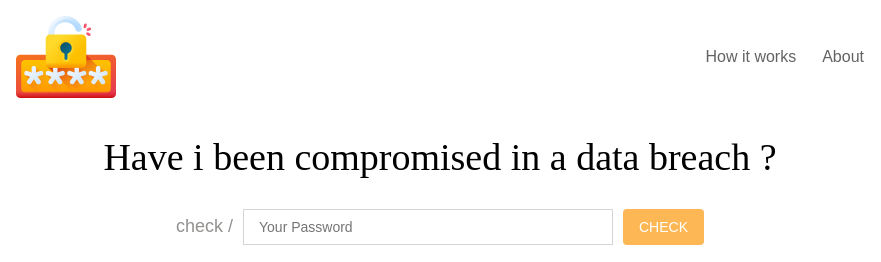
Scenario: Header › "How it works" link points to the correct page
This screenshot has width=881, height=262.
Click the link "How it works". click: (751, 57)
box: [706, 48, 796, 66]
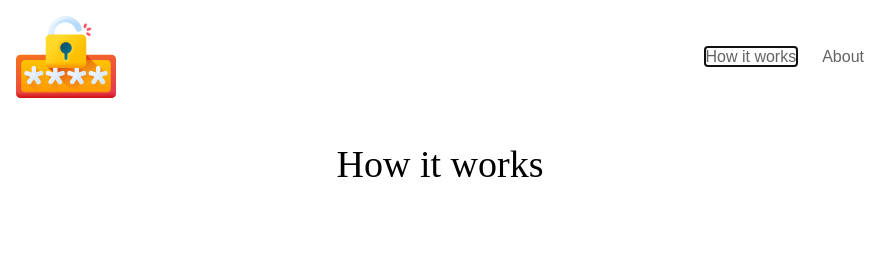
Result: the heading "How it works" is shown at [336, 144, 543, 186]
